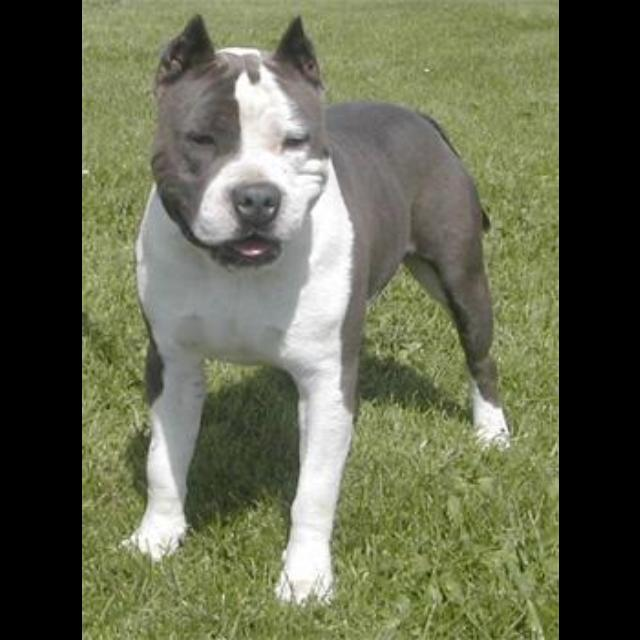staffford: (117, 13, 511, 610)
